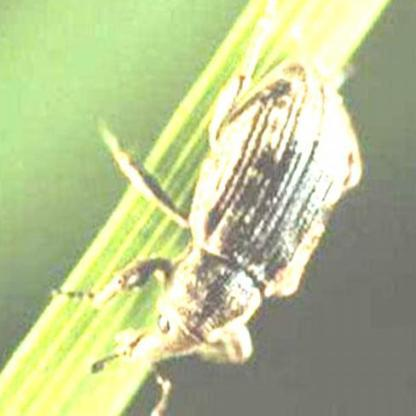rice-bug: (111, 52, 368, 370)
